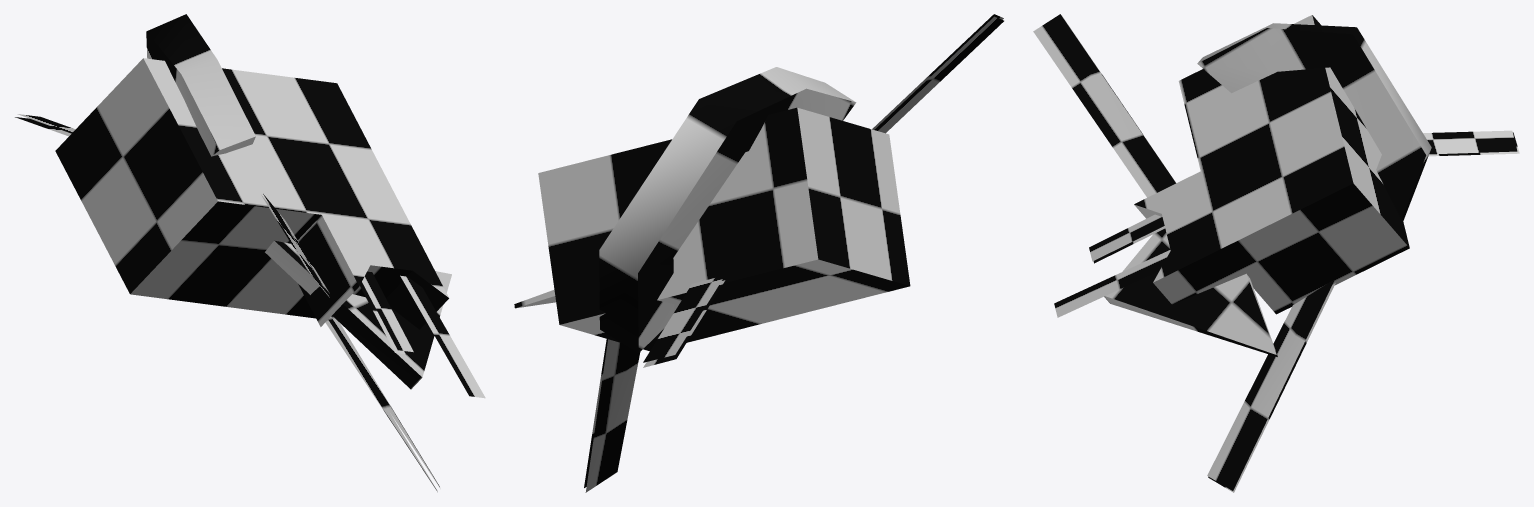
The model's file is mmo_scrap.obj.
The picture shows the model from 3 angles, left to right: view 1: azimuth 30°, elevation 25°; view 2: azimuth 150°, elevation 25°; view 3: azimuth 270°, elevation 25°; orthographic projection. The views are drawn at different scales.
Visible parts, largest first — view 1: mmo_scrap; view 2: mmo_scrap; view 3: mmo_scrap.
Part boxes in pixels (<box>): mmo_scrap: <box>15,14,485,491</box>; mmo_scrap: <box>514,14,1003,492</box>; mmo_scrap: <box>1033,14,1519,492</box>.
Bounding box in the file's own units: 103 × 132 × 151.
1 material, 1 textured.
